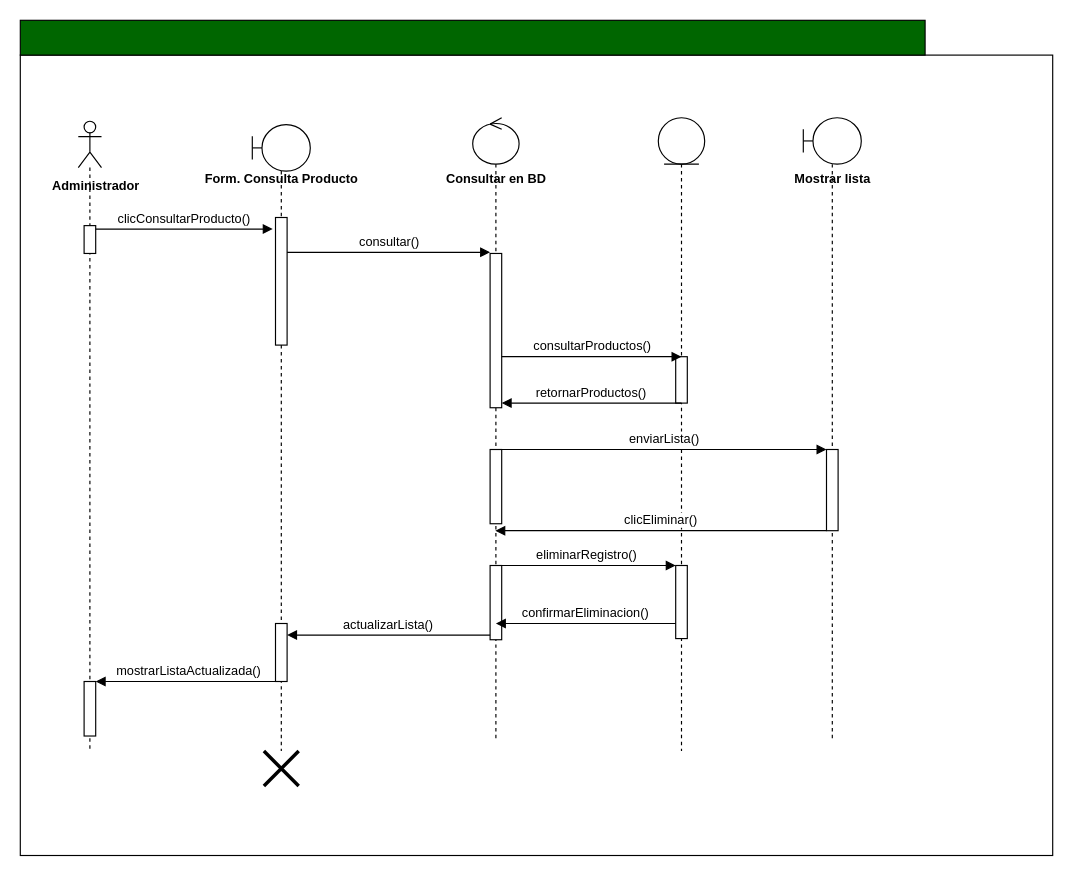
The diagram is 1073 pixels wide and 876 high, and some of its shapes have lost their labels. Here are the shapes that lost their labels. From the top down, the centre of each, then its label:
At point (472, 37): "DS 2.2.3 - Eliminar Producto".
At point (681, 434): "BD - PRODUCTOS".
